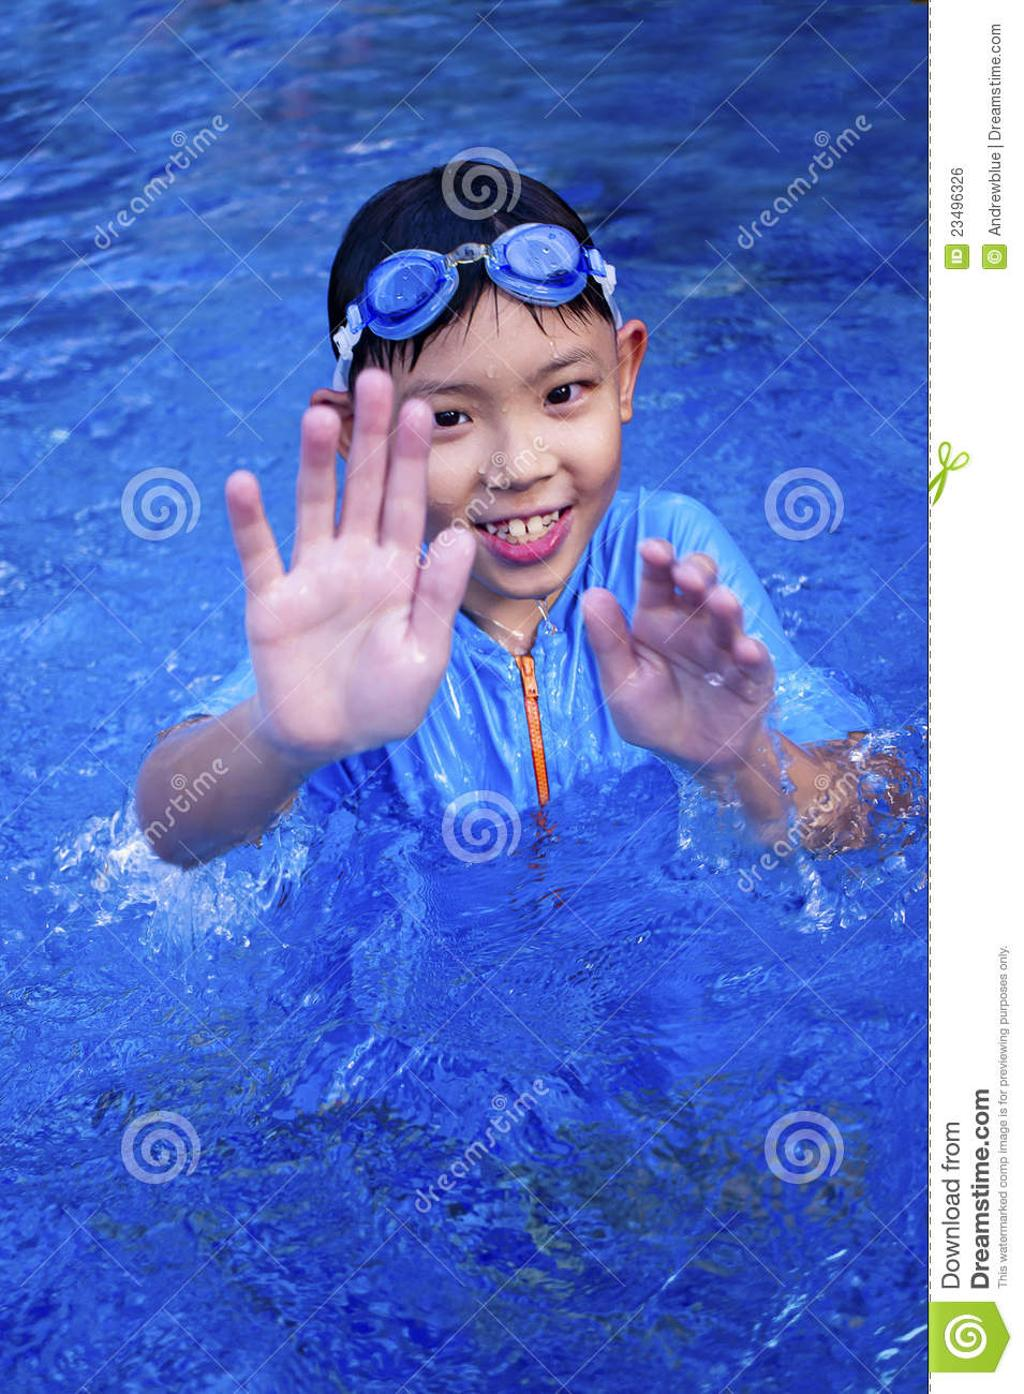face: (379, 297, 621, 583)
